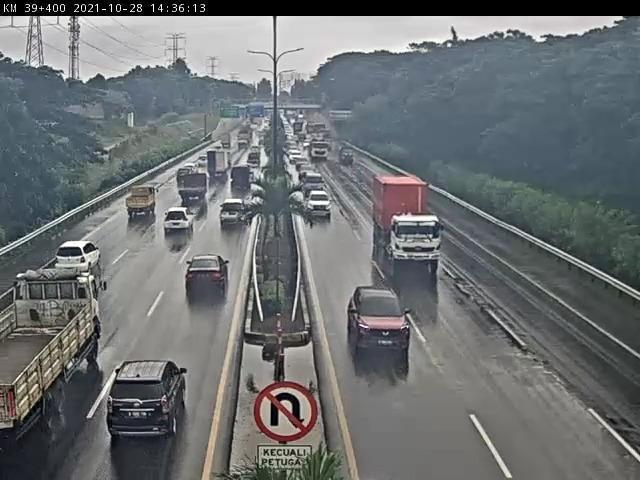car: (107, 360, 188, 439), (347, 287, 413, 353), (182, 255, 233, 296), (53, 241, 103, 279), (220, 198, 251, 229), (307, 191, 336, 220), (165, 207, 195, 235), (226, 165, 254, 193), (304, 174, 327, 197), (182, 162, 200, 178), (174, 169, 193, 182)
truck: (2, 267, 105, 441), (372, 178, 443, 276), (127, 186, 160, 221), (177, 172, 210, 203), (207, 150, 232, 181)
